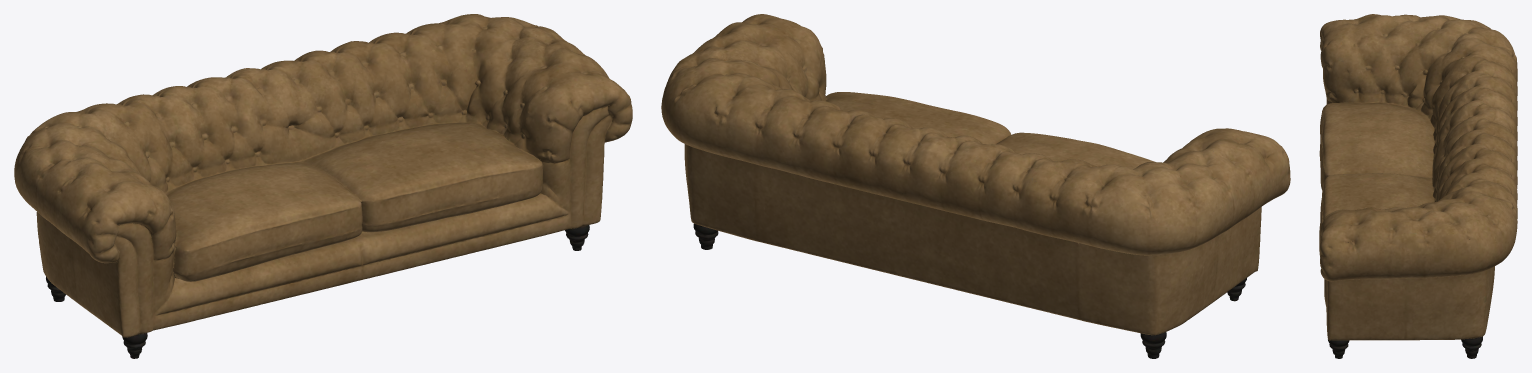
File: B0714QGC72.glb
The picture shows the model from 3 angles, left to right: view 1: azimuth 30°, elevation 25°; view 2: azimuth 150°, elevation 25°; view 3: azimuth 270°, elevation 25°; orthographic projection. The views are drawn at different scales.
Visible parts, largest first — view 1: geometry_0; view 2: geometry_0; view 3: geometry_0.
Part boxes in pixels (bbox=[...]): geometry_0: bbox=[14, 14, 632, 358]; geometry_0: bbox=[661, 14, 1290, 358]; geometry_0: bbox=[1319, 14, 1517, 358].
Bounding box in the file's own units: 1 × 0.3123 × 0.3703.
1 material, 1 textured.
